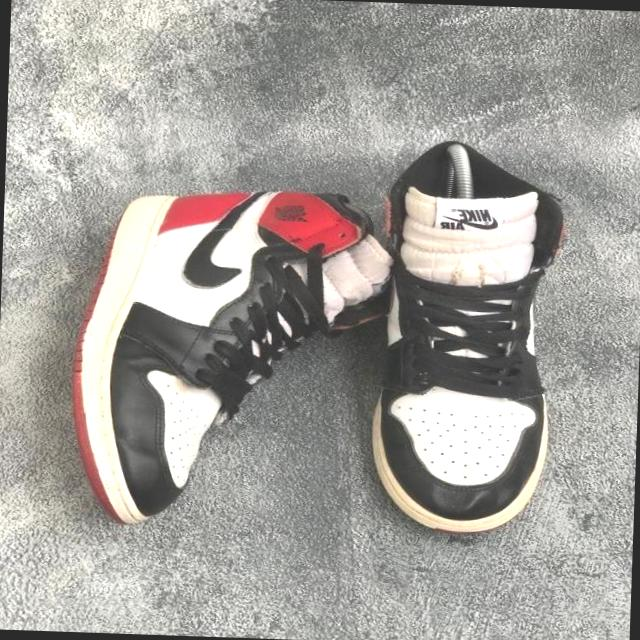nike_fake_jordan: (64, 180, 398, 534), (332, 135, 572, 538)
